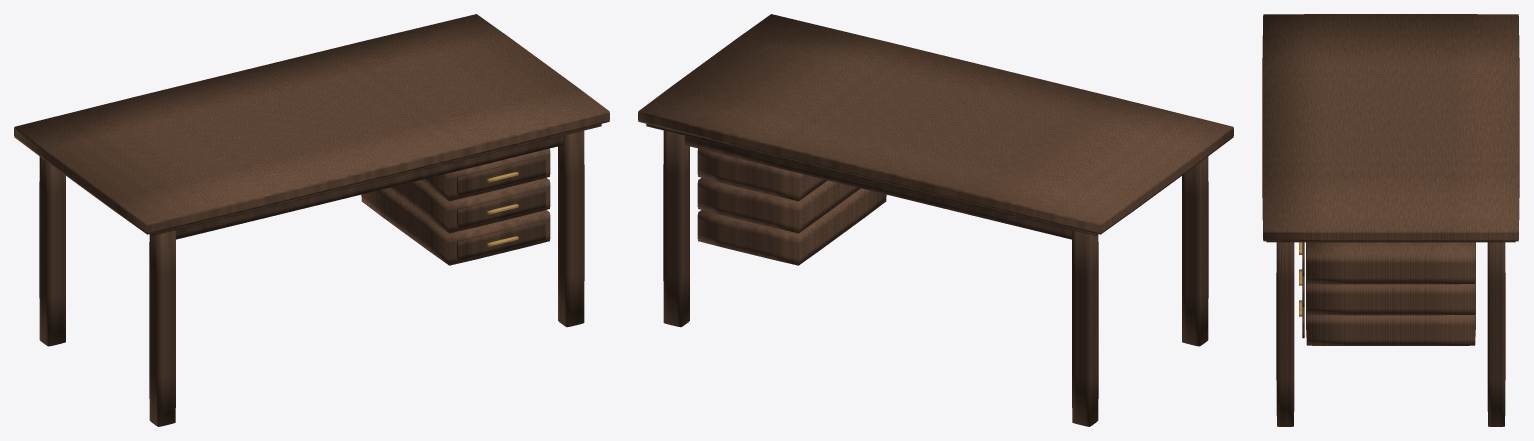
The model's file is writing_desk.glb.
The picture shows the model from 3 angles, left to right: view 1: azimuth 30°, elevation 25°; view 2: azimuth 150°, elevation 25°; view 3: azimuth 270°, elevation 25°; orthographic projection. The views are drawn at different scales.
Visible parts, largest first — view 1: BeveledTop, TaperedLeg_-1_1, TaperedLeg_1_1, TaperedLeg_-1_-1, Drawer0, Apron1, Drawer1, DrawerInset0, DrawerInset1, DrawerInset2, Drawer2, TopMolding; view 2: BeveledTop, Drawer0, TaperedLeg_-1_-1, TaperedLeg_1_-1, Drawer1, TaperedLeg_-1_1, Apron-1, Drawer2, TopMolding; view 3: BeveledTop, Drawer2, Drawer1, Drawer0, TaperedLeg_1_-1, TaperedLeg_1_1, TopMolding.
Part boxes in pixels (left/top/right/bottom): BeveledTop: left=14, top=14, right=609, bottom=234; TaperedLeg_-1_1: left=149, top=230, right=175, bottom=426; TaperedLeg_1_1: left=558, top=130, right=584, bottom=327; TaperedLeg_-1_-1: left=39, top=156, right=65, bottom=346; Drawer0: left=361, top=188, right=550, bottom=265; Apron1: left=175, top=136, right=563, bottom=239; Drawer1: left=387, top=178, right=550, bottom=233; DrawerInset0: left=457, top=220, right=545, bottom=260; DrawerInset1: left=457, top=188, right=545, bottom=228; DrawerInset2: left=457, top=155, right=545, bottom=196; Drawer2: left=420, top=148, right=550, bottom=201; TopMolding: left=149, top=124, right=601, bottom=235; BeveledTop: left=638, top=14, right=1233, bottom=234; Drawer0: left=697, top=188, right=886, bottom=265; TaperedLeg_-1_-1: left=1072, top=230, right=1098, bottom=426; TaperedLeg_1_-1: left=663, top=130, right=689, bottom=327; Drawer1: left=697, top=178, right=860, bottom=233; TaperedLeg_-1_1: left=1182, top=156, right=1208, bottom=346; Apron-1: left=684, top=136, right=1072, bottom=239; Drawer2: left=697, top=148, right=827, bottom=201; TopMolding: left=646, top=124, right=1098, bottom=235; BeveledTop: left=1262, top=14, right=1519, bottom=241; Drawer2: left=1306, top=242, right=1475, bottom=284; Drawer1: left=1306, top=268, right=1475, bottom=315; Drawer0: left=1306, top=299, right=1475, bottom=345; TaperedLeg_1_-1: left=1487, top=242, right=1505, bottom=426; TaperedLeg_1_1: left=1276, top=242, right=1294, bottom=426; TopMolding: left=1266, top=241, right=1515, bottom=242.
Size of the model in its own units: 68 by 30 by 34.
3 materials, 2 textured.
